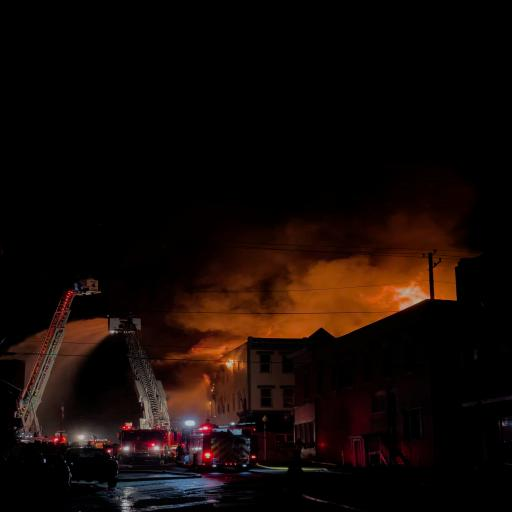buildingfire: (161, 195, 512, 392)
